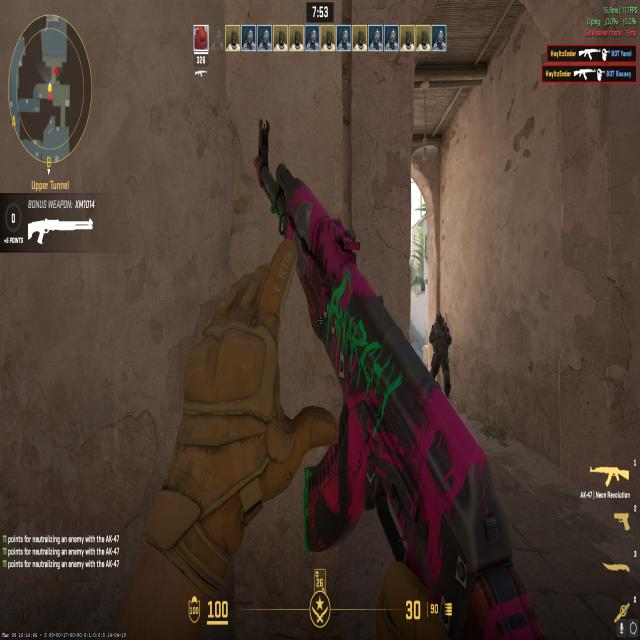ct: (426, 303, 453, 396)
